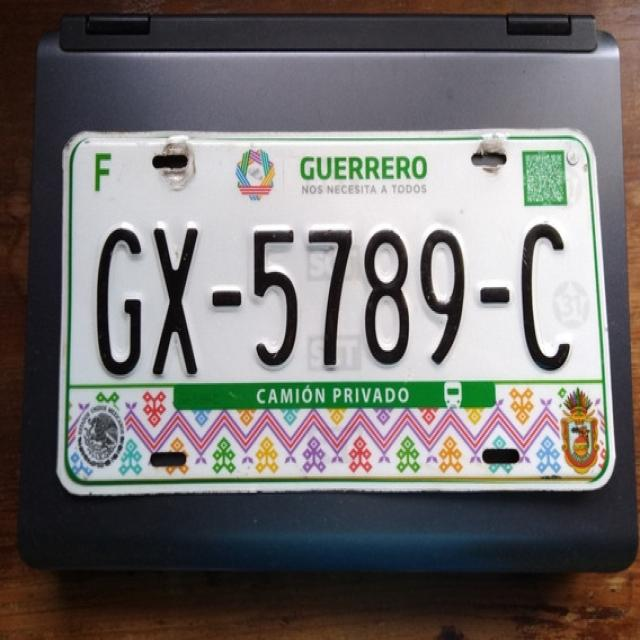placa: (70, 208, 601, 374)
